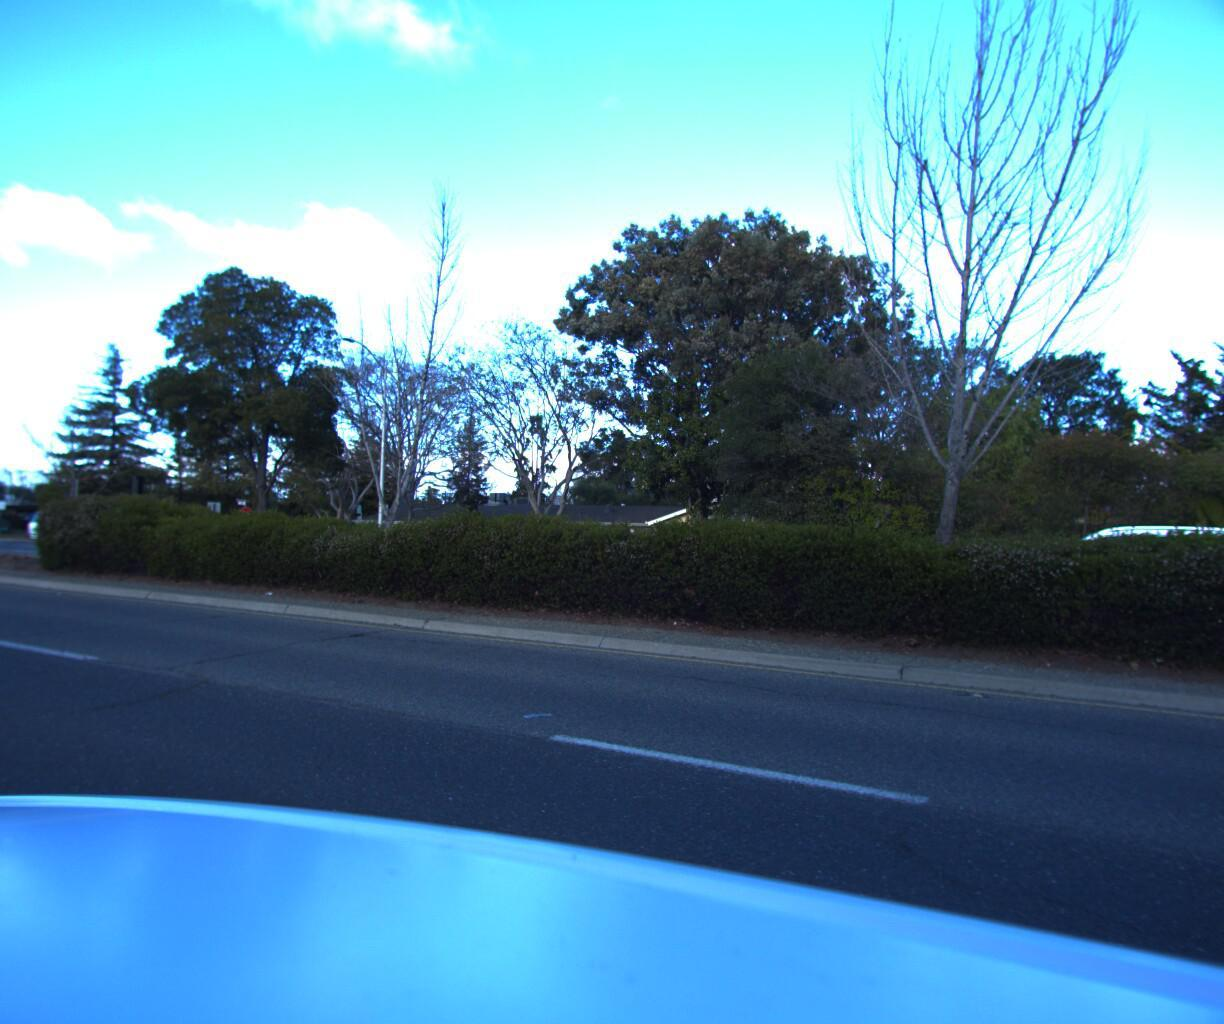car: (1001, 520, 1224, 641)
truck: (23, 506, 136, 542)
